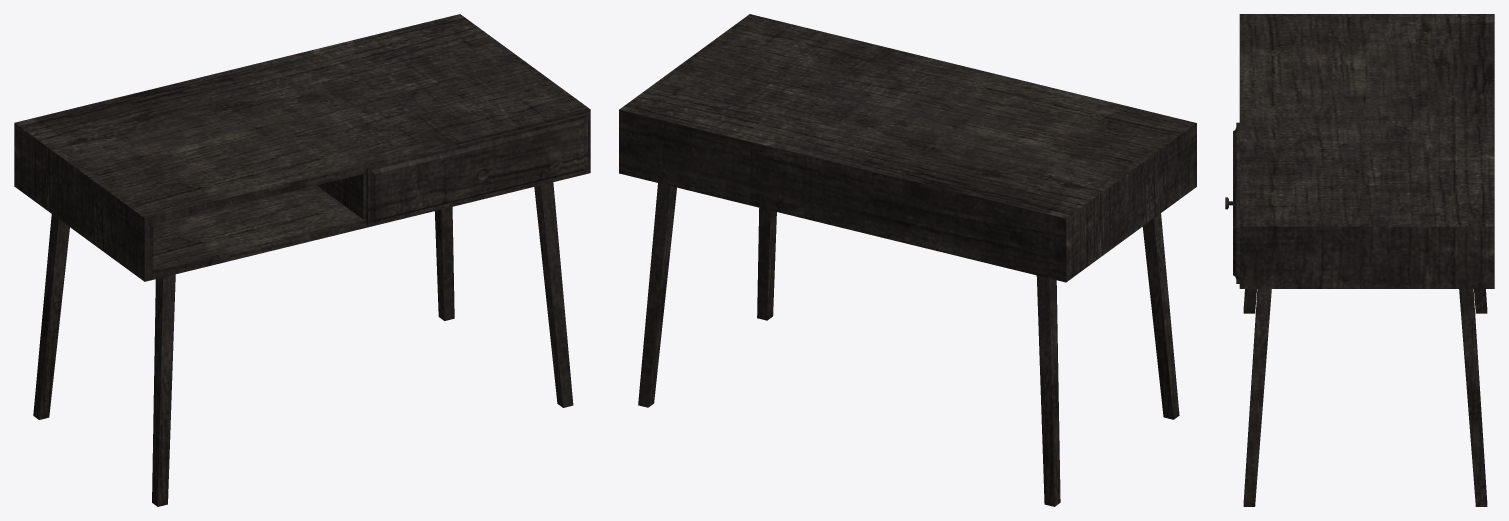
Rendered from tv_table_4.obj.
3 views of the same model, side by side, from view 1: azimuth 30°, elevation 25°; view 2: azimuth 150°, elevation 25°; view 3: azimuth 270°, elevation 25° (orthographic). The views are drawn at different scales.
Visible parts, largest first — view 1: tv_table_4, tv_table_4_drawer; view 2: tv_table_4; view 3: tv_table_4, tv_table_4_drawer.
Boxes of the visible parts, x1,y1,x2,y2 form: tv_table_4: (14,14,590,506); tv_table_4_drawer: (366,113,587,225); tv_table_4: (619,14,1196,506); tv_table_4: (1239,14,1494,506); tv_table_4_drawer: (1225,122,1239,283).
Size of the model in its own units: 1.54 by 0.97 by 0.8235.
